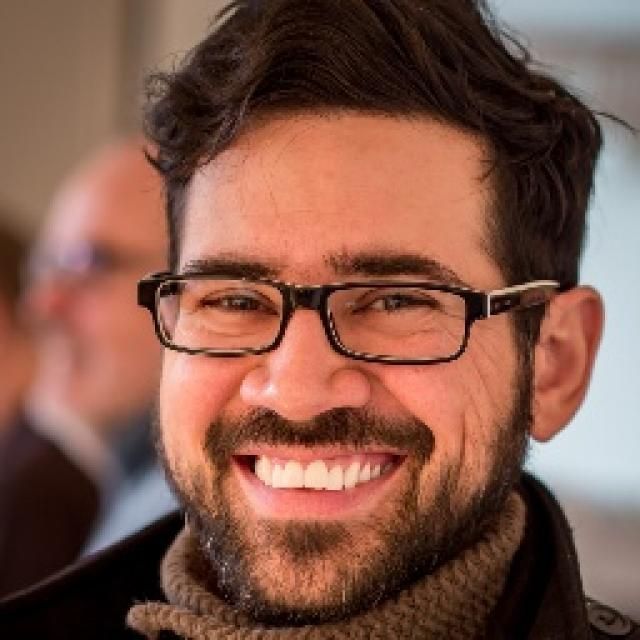earlobe: (524, 393, 580, 442)
eye: (194, 290, 279, 322), (355, 288, 439, 316)
nose: (243, 399, 364, 439)
wholeear: (525, 284, 604, 442)
